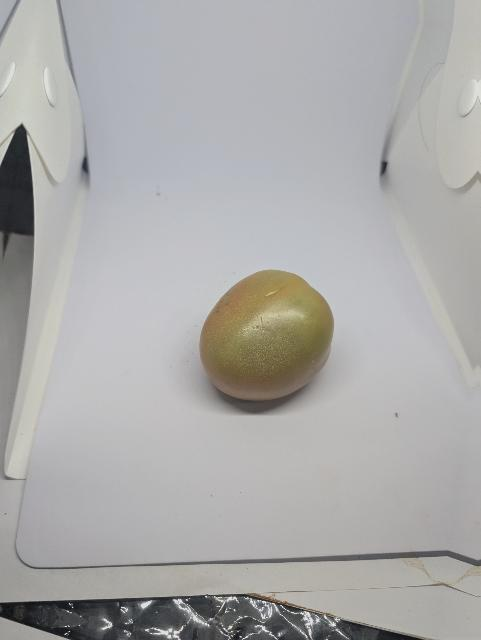breaker: (199, 268, 339, 402)
